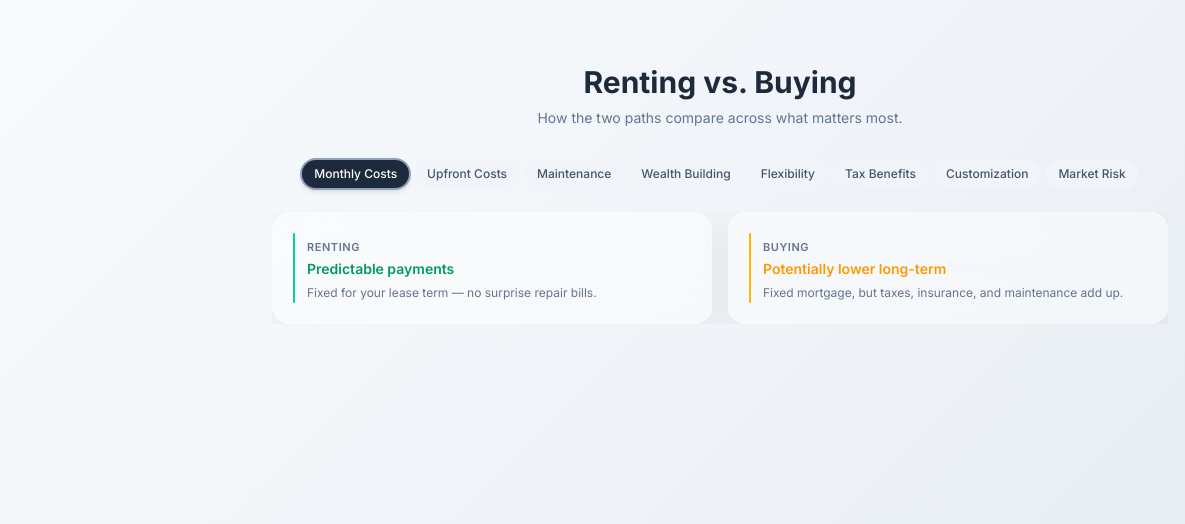
ComparisonSection — click navigation › clicking the last indicator works correctly
This screenshot has width=1185, height=524.
Click the tab "Market Risk" at point(1092, 174), box x1=1046 y1=160 x2=1138 y2=188
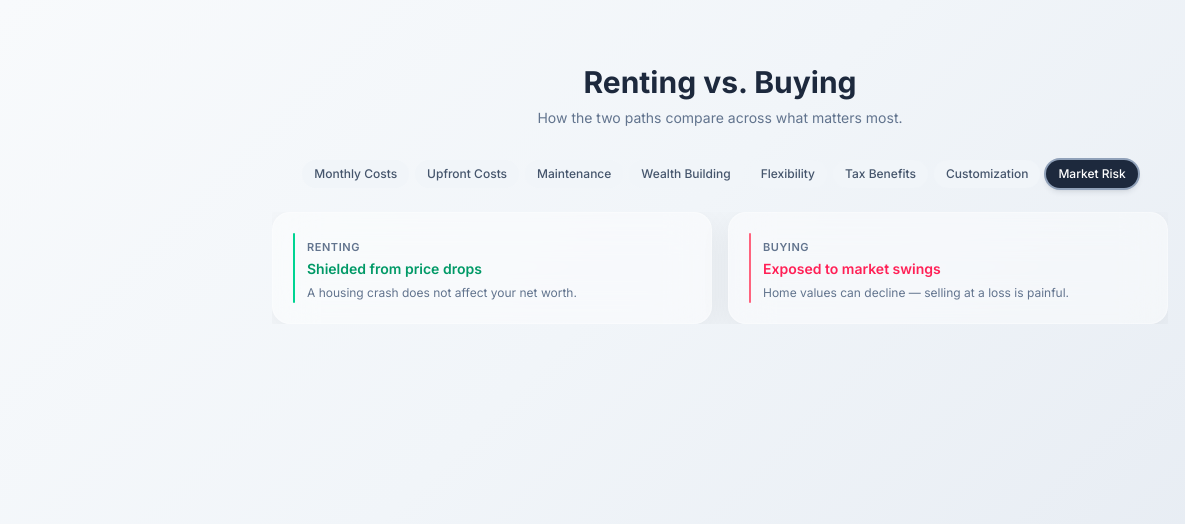
Check: the heading "Shielded from price drops" is shown, box x1=307 y1=260 x2=482 y2=277
